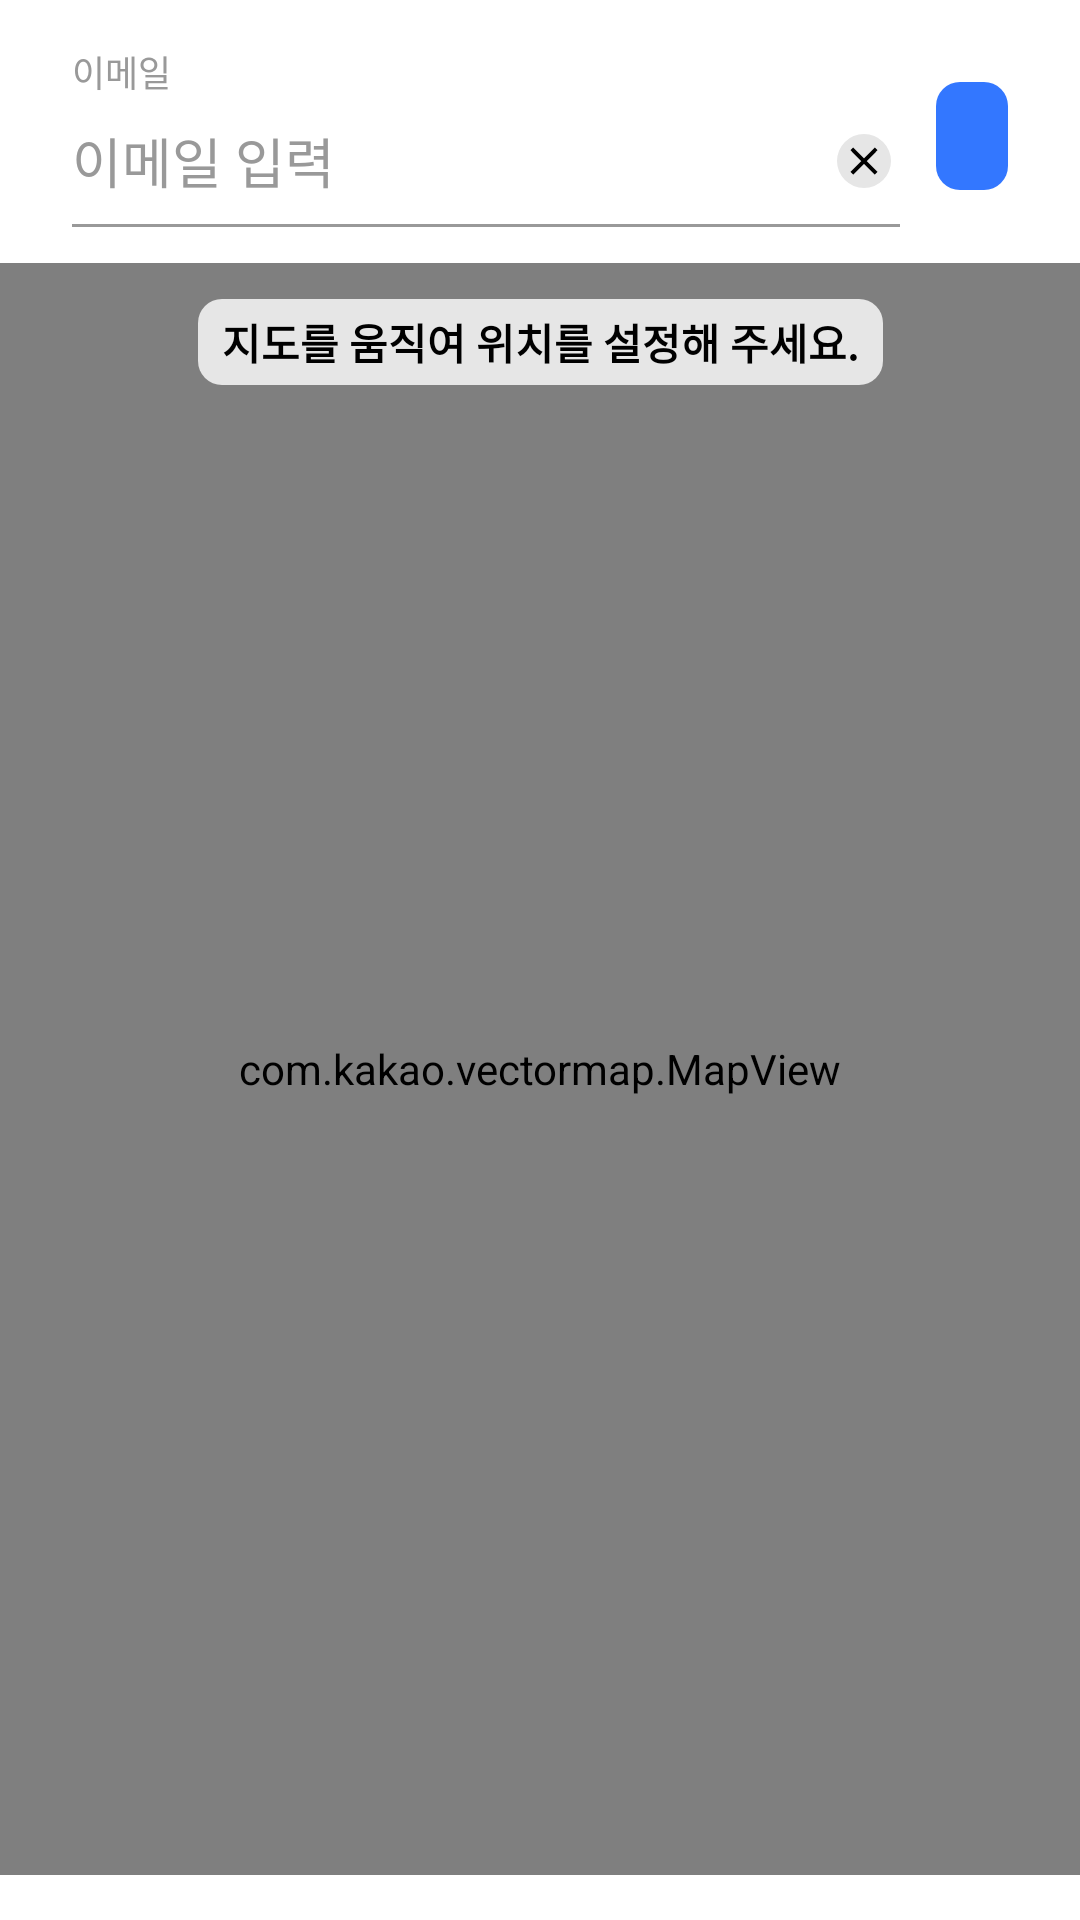

Named icons in this screenshot (1080*1920) and their bounding boxes, (x1, y1, x2, y2):
edittext cancel: (837, 135, 890, 187)
